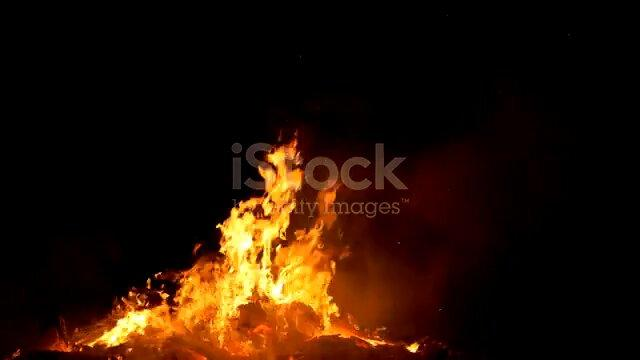fire: (57, 130, 441, 353)
